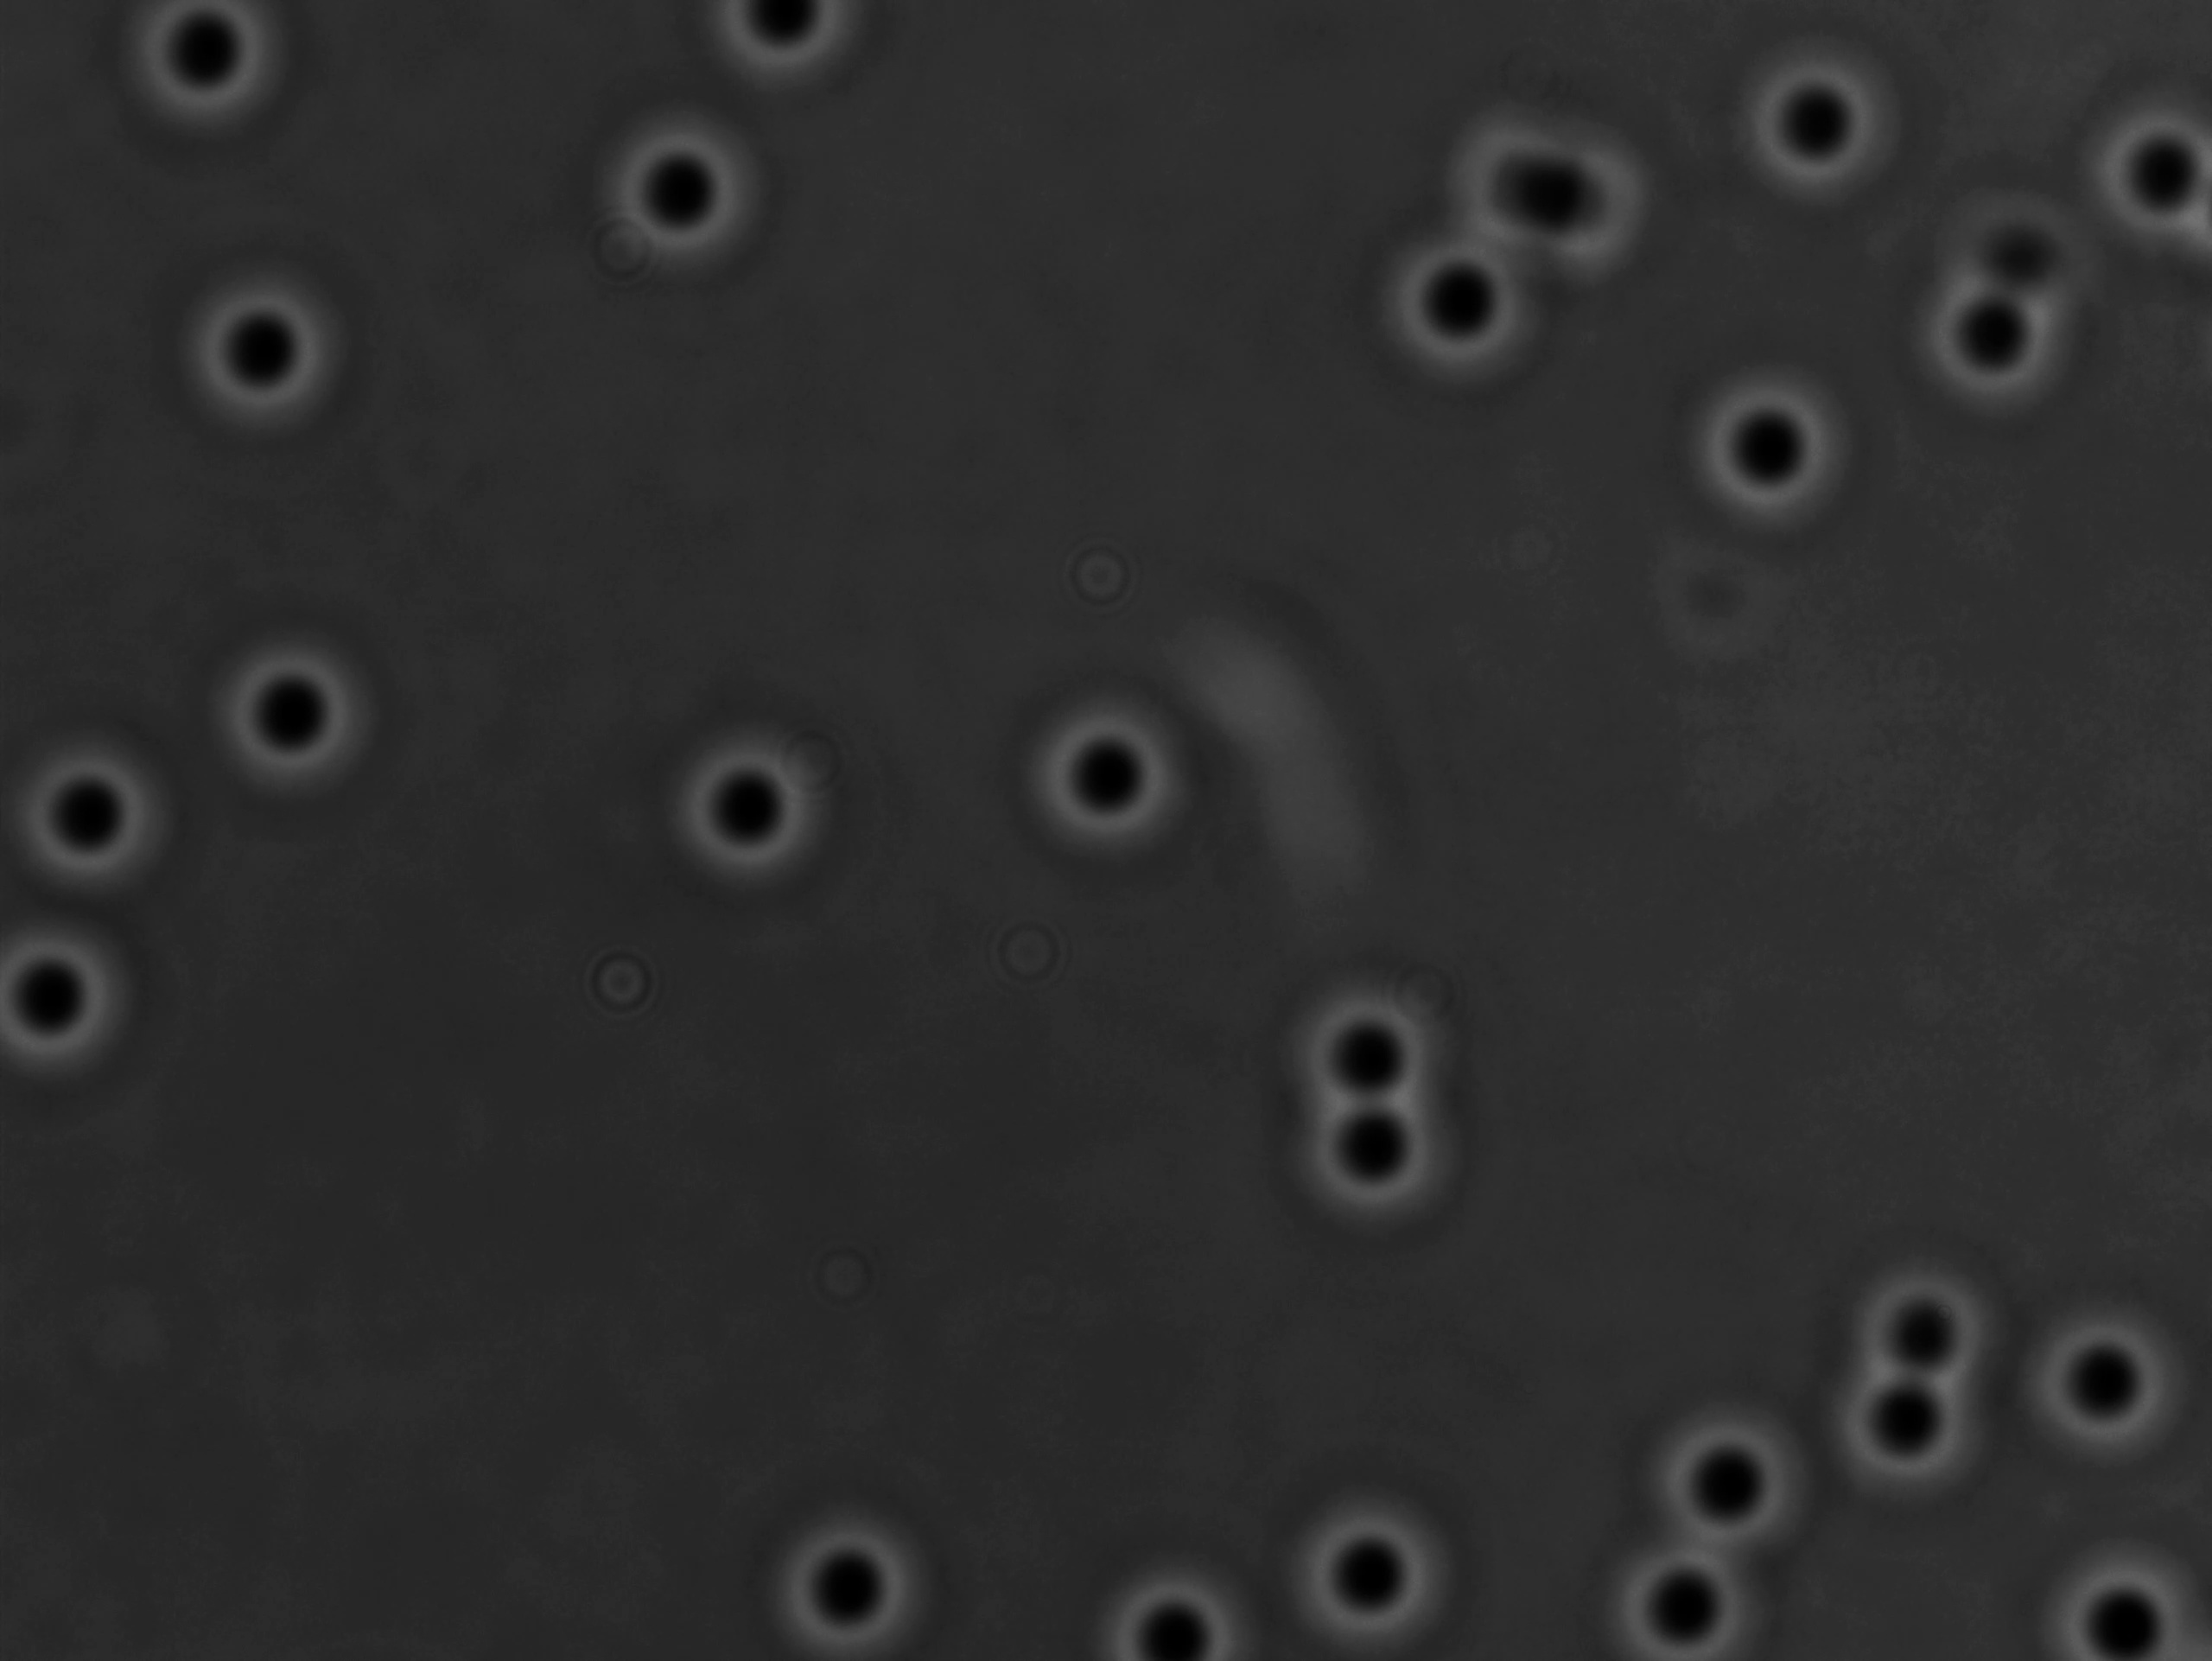depth:-80: (1277, 1059, 1483, 1247), (1832, 1230, 2039, 1415), (1914, 244, 2107, 440), (1382, 227, 1580, 415), (1287, 949, 1479, 1139), (1631, 1375, 1813, 1574), (167, 260, 354, 448), (1021, 684, 1204, 872), (2011, 1296, 2200, 1480), (1277, 1476, 1460, 1659), (202, 625, 382, 808), (1819, 1345, 2010, 1516), (1687, 370, 1868, 546), (652, 715, 830, 893), (1727, 40, 1905, 218), (755, 1500, 947, 1661), (1591, 1521, 1797, 1661), (598, 115, 775, 274), (2027, 1532, 2212, 1661), (1078, 1551, 1261, 1661)
